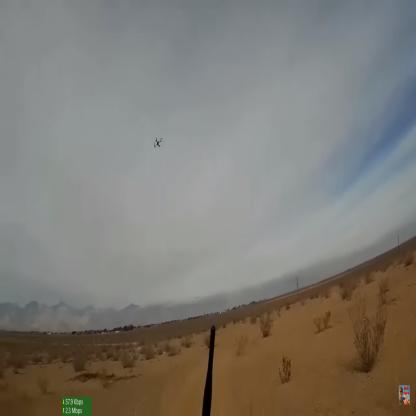drone: (153, 136, 166, 150)
